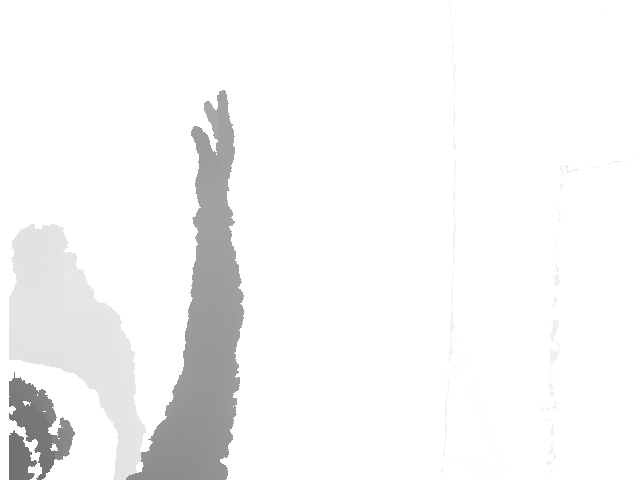hand: (191, 90, 236, 213)
head: (11, 225, 86, 306)
person: (9, 89, 246, 480), (10, 224, 148, 480)
